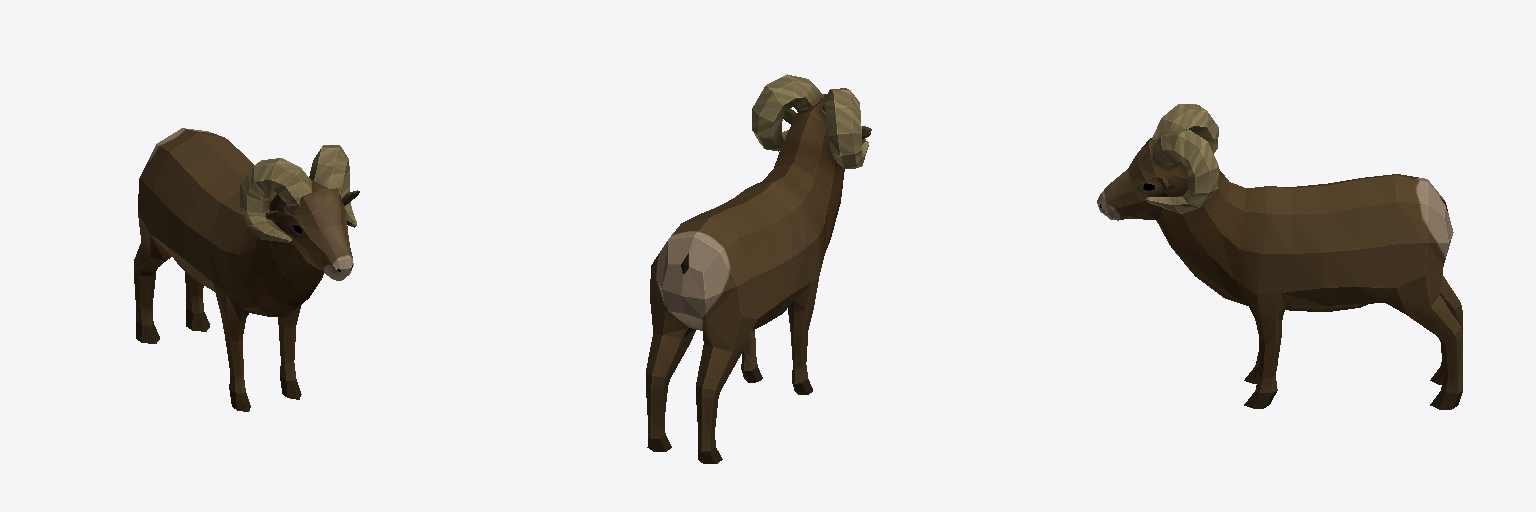
The picture shows the model from 3 angles: view 1: azimuth 30°, elevation 25°; view 2: azimuth 150°, elevation 25°; view 3: azimuth 270°, elevation 25°; orthographic projection.
Visible parts, largest first — view 1: BighornSheep_mesh; view 2: BighornSheep_mesh; view 3: BighornSheep_mesh.
Part boxes in pixels (bbox=[...]): BighornSheep_mesh: bbox=[134, 128, 359, 411]; BighornSheep_mesh: bbox=[646, 74, 871, 463]; BighornSheep_mesh: bbox=[1097, 104, 1462, 409].
Bounding box in the file's own units: 2.46 × 6.21 × 7.53.
Materials: 1 (1 with a texture image).